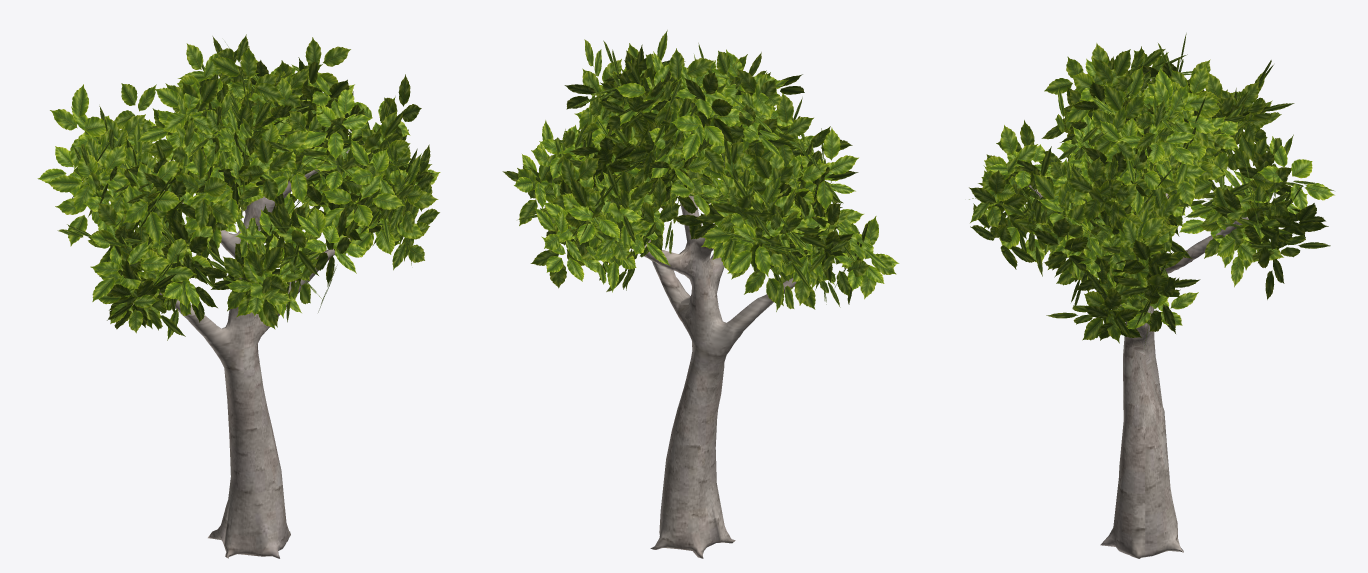
Rendered from cincis-beech-packed-lod-study.glb.
3 renders of one model, left to right at view 1: azimuth 30°, elevation 25°; view 2: azimuth 150°, elevation 25°; view 3: azimuth 270°, elevation 25°, orthographic.
Parts seen in each view (by area): view 1: Foliage, Trunk and branches (×2); view 2: Foliage, Trunk and branches (×2); view 3: Foliage, Trunk and branches (×2).
Boxes of the visible parts, x1,y1,x2,y2 form: Foliage: (37,34,440,340); Trunk and branches (×2): (158,144,364,558); Foliage: (502,30,899,311); Trunk and branches (×2): (644,193,796,558); Foliage: (969,33,1334,346); Trunk and branches (×2): (1029,185,1248,558).
Size of the model in its own units: 6.99 by 8.82 by 6.28.
2 materials, 2 textured.
